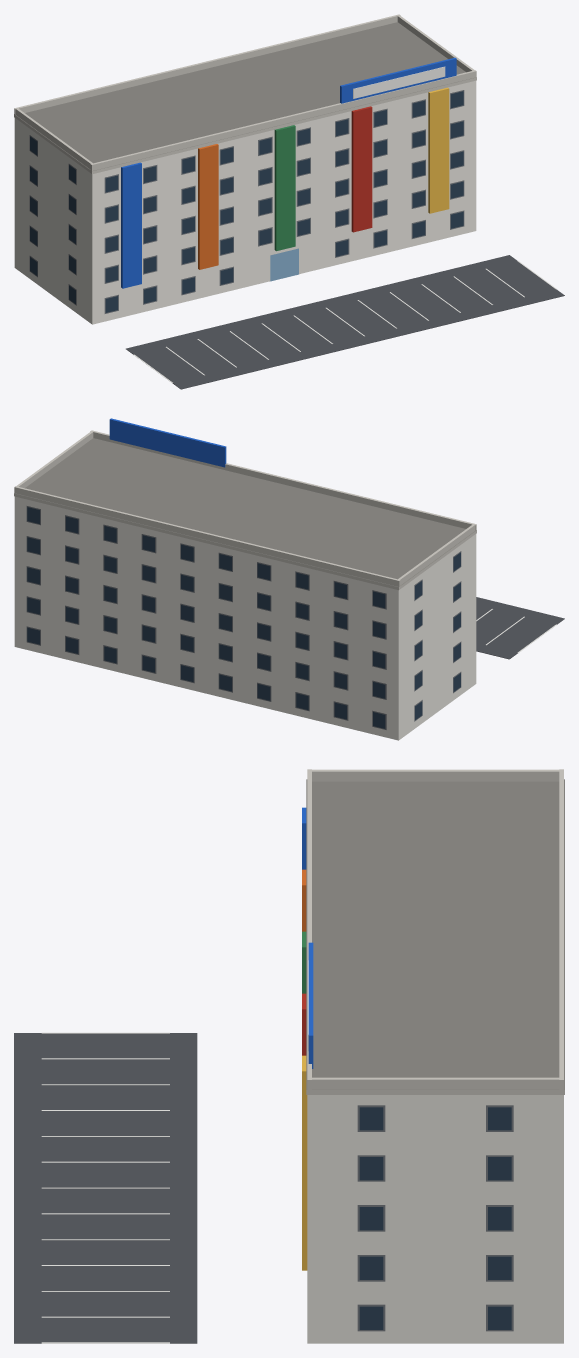
The model's file is hotel_chaine.glb.
3 views of the same model, one above another, from view 1: azimuth 30°, elevation 25°; view 2: azimuth 150°, elevation 25°; view 3: azimuth 270°, elevation 25° (orthographic). The views are drawn at different scales.
Parts seen in each view (by area): view 1: hotel_chaine; view 2: hotel_chaine; view 3: hotel_chaine.
Boxes of the visible parts, x1=… form: hotel_chaine: x1=14, y1=14, x2=564, y2=389; hotel_chaine: x1=14, y1=418, x2=564, y2=740; hotel_chaine: x1=14, y1=769, x2=564, y2=1343.
Size of the model in its own units: 40.12 by 17.6 by 30.05.
1 material, 1 textured.
